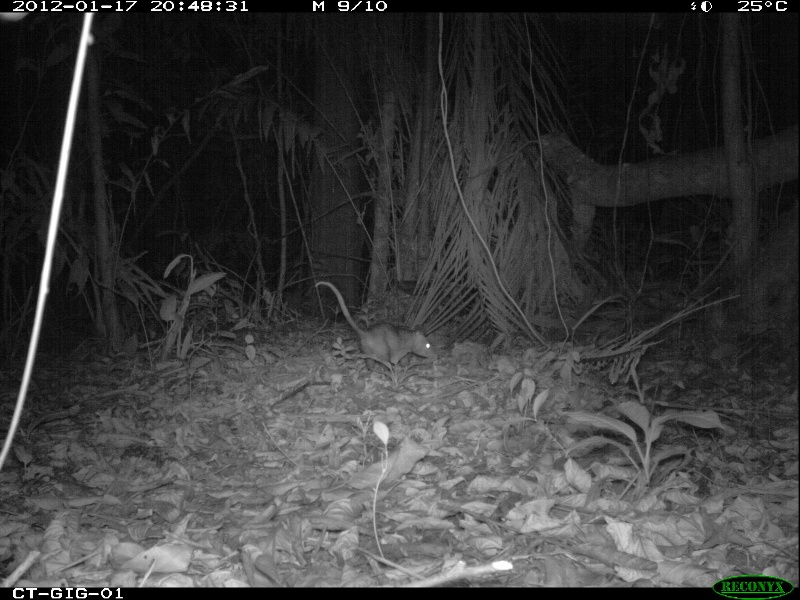opossum: (312, 275, 440, 373)
